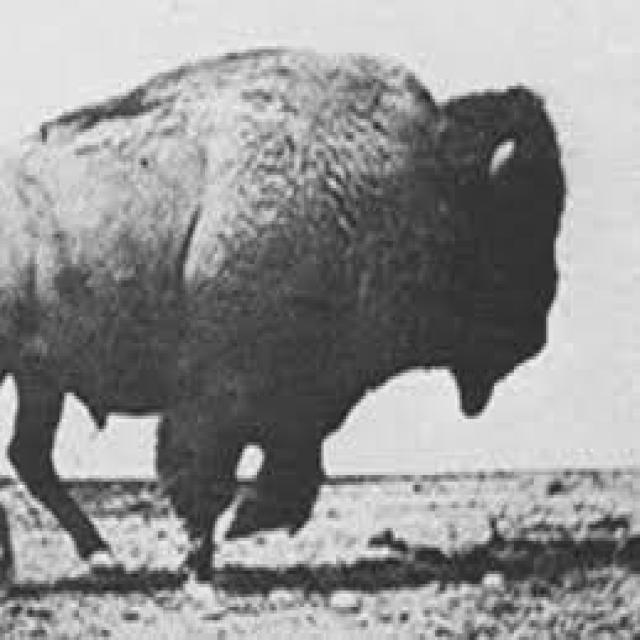Bison: (0, 26, 574, 572)
